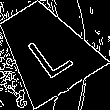L_NW: (17, 19, 74, 79)
